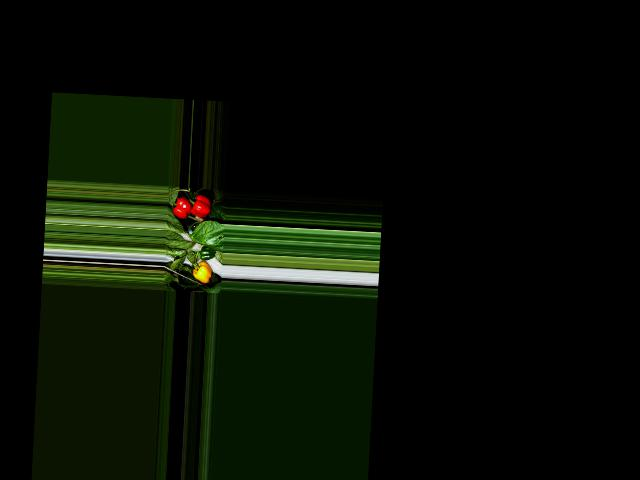bell_pepper: (191, 260, 214, 285)
